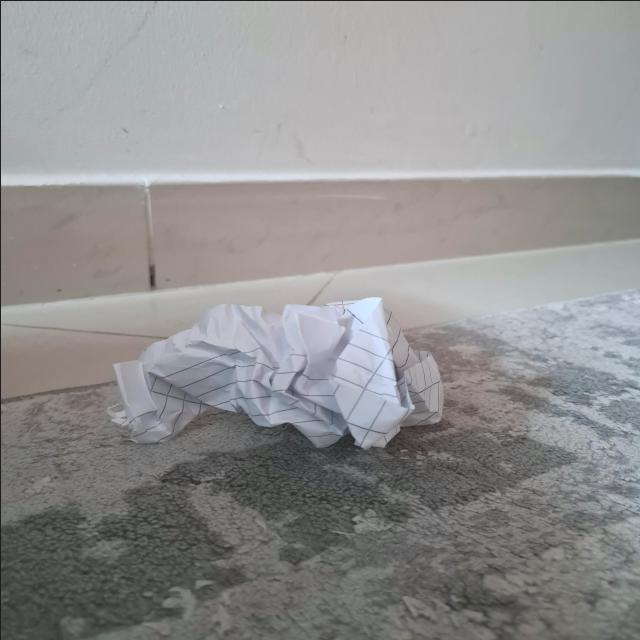Paper: (90, 276, 467, 469)
